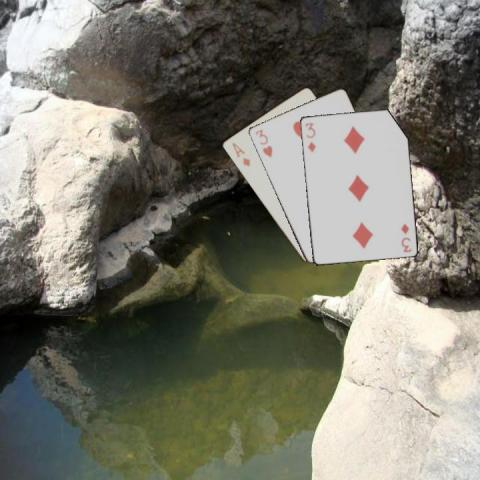3d: (302, 120, 317, 154), (398, 221, 413, 253)
3h: (252, 126, 274, 158)
Ad: (229, 139, 251, 168)
